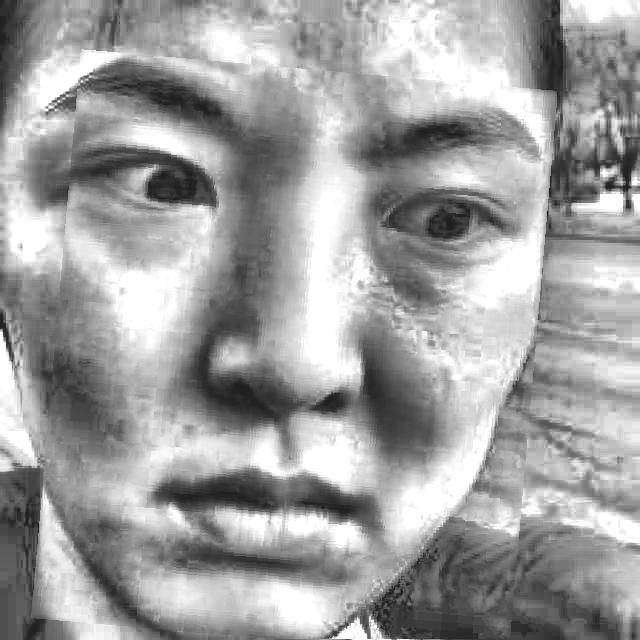fear: (43, 59, 545, 640)
